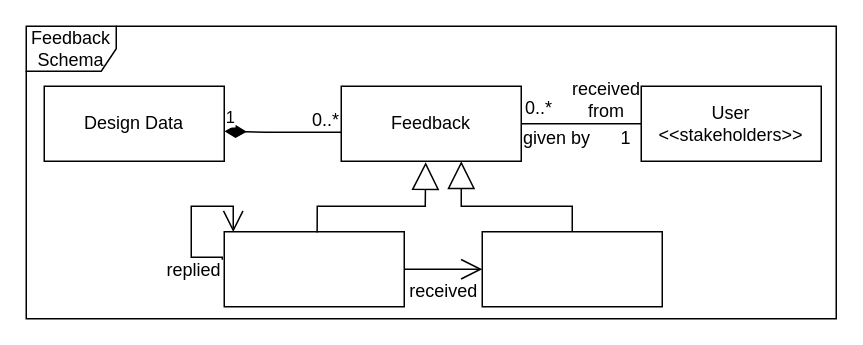
Some shapes in this 863 by 345 pixel diagram are drawn without their labels. The shapes that lost their labels are listed below. From the top down, each one's centre as x and y in pixels, then its label:
the point at 313,268: Comment
the point at 571,268: Reaction
